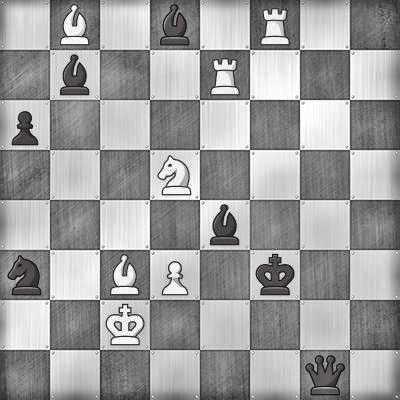black-bishop: (150, 0, 200, 50), (50, 50, 100, 100), (200, 200, 250, 250)
black-king: (250, 250, 300, 300)
black-knight: (0, 250, 50, 300)
black-pawn: (0, 100, 50, 150)
black-queen: (300, 350, 350, 400)
white-bishop: (50, 0, 100, 50), (100, 250, 150, 300)
white-king: (100, 300, 150, 350)
white-knight: (150, 150, 200, 200)
white-pawn: (150, 250, 200, 300)
white-rook: (250, 0, 300, 50), (200, 50, 250, 100)
